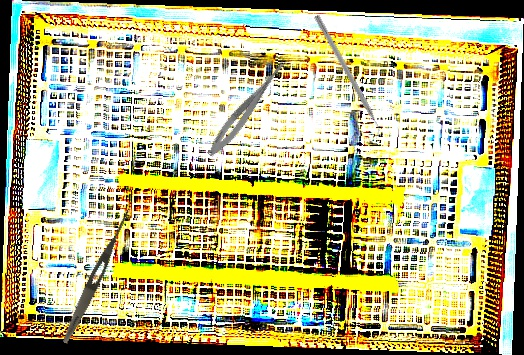Chopper: (307, 14, 386, 141)
Dressing Forceps: (59, 205, 134, 346)
Micro Scissor: (203, 52, 292, 161)
